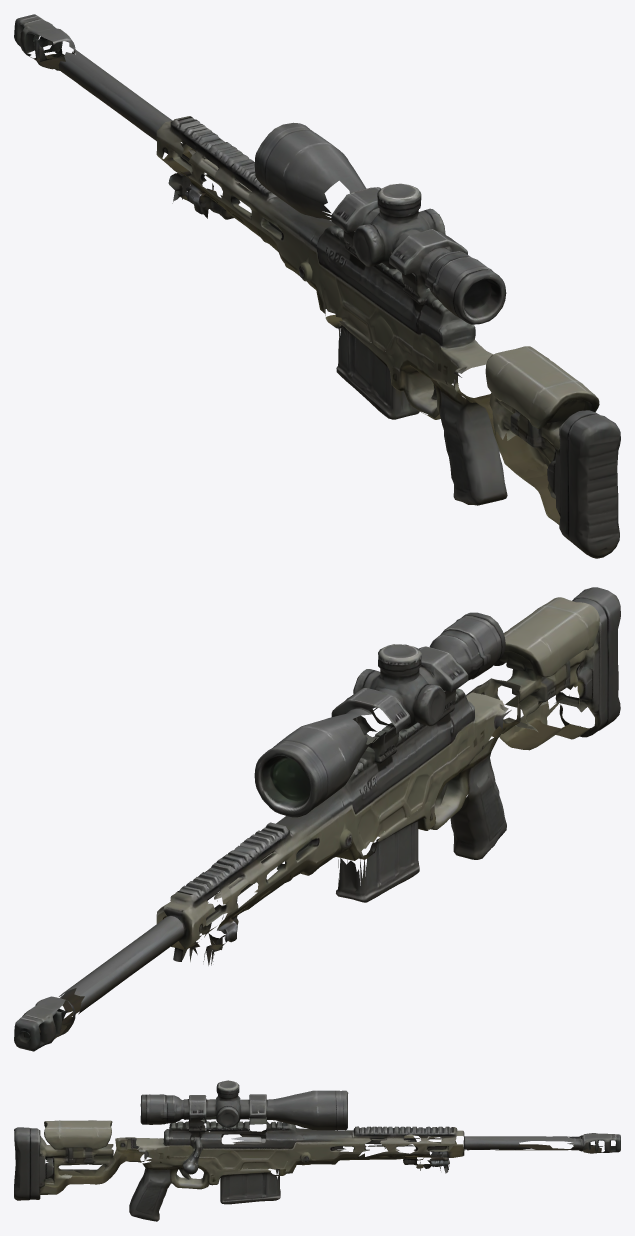
Rendered from sniper.glb.
3 renders of one model, top to bottom at view 1: azimuth 30°, elevation 25°; view 2: azimuth 150°, elevation 25°; view 3: azimuth 270°, elevation 25°, orthographic. The views are drawn at different scales.
Parts seen in each view (by area): view 1: body, mag; view 2: body, mag; view 3: body, mag.
Boxes of the visible parts, left/top/right/bottom form: body: left=14, top=14, right=620, bottom=558; mag: left=325, top=314, right=419, bottom=419; body: left=14, top=587, right=620, bottom=1051; mag: left=336, top=801, right=431, bottom=902; body: left=14, top=1080, right=620, bottom=1221; mag: left=214, top=1168, right=286, bottom=1204.
Size of the model in its own units: 0.0889 by 0.2802 by 1.15.
Materials: 1 (1 with a texture image).
